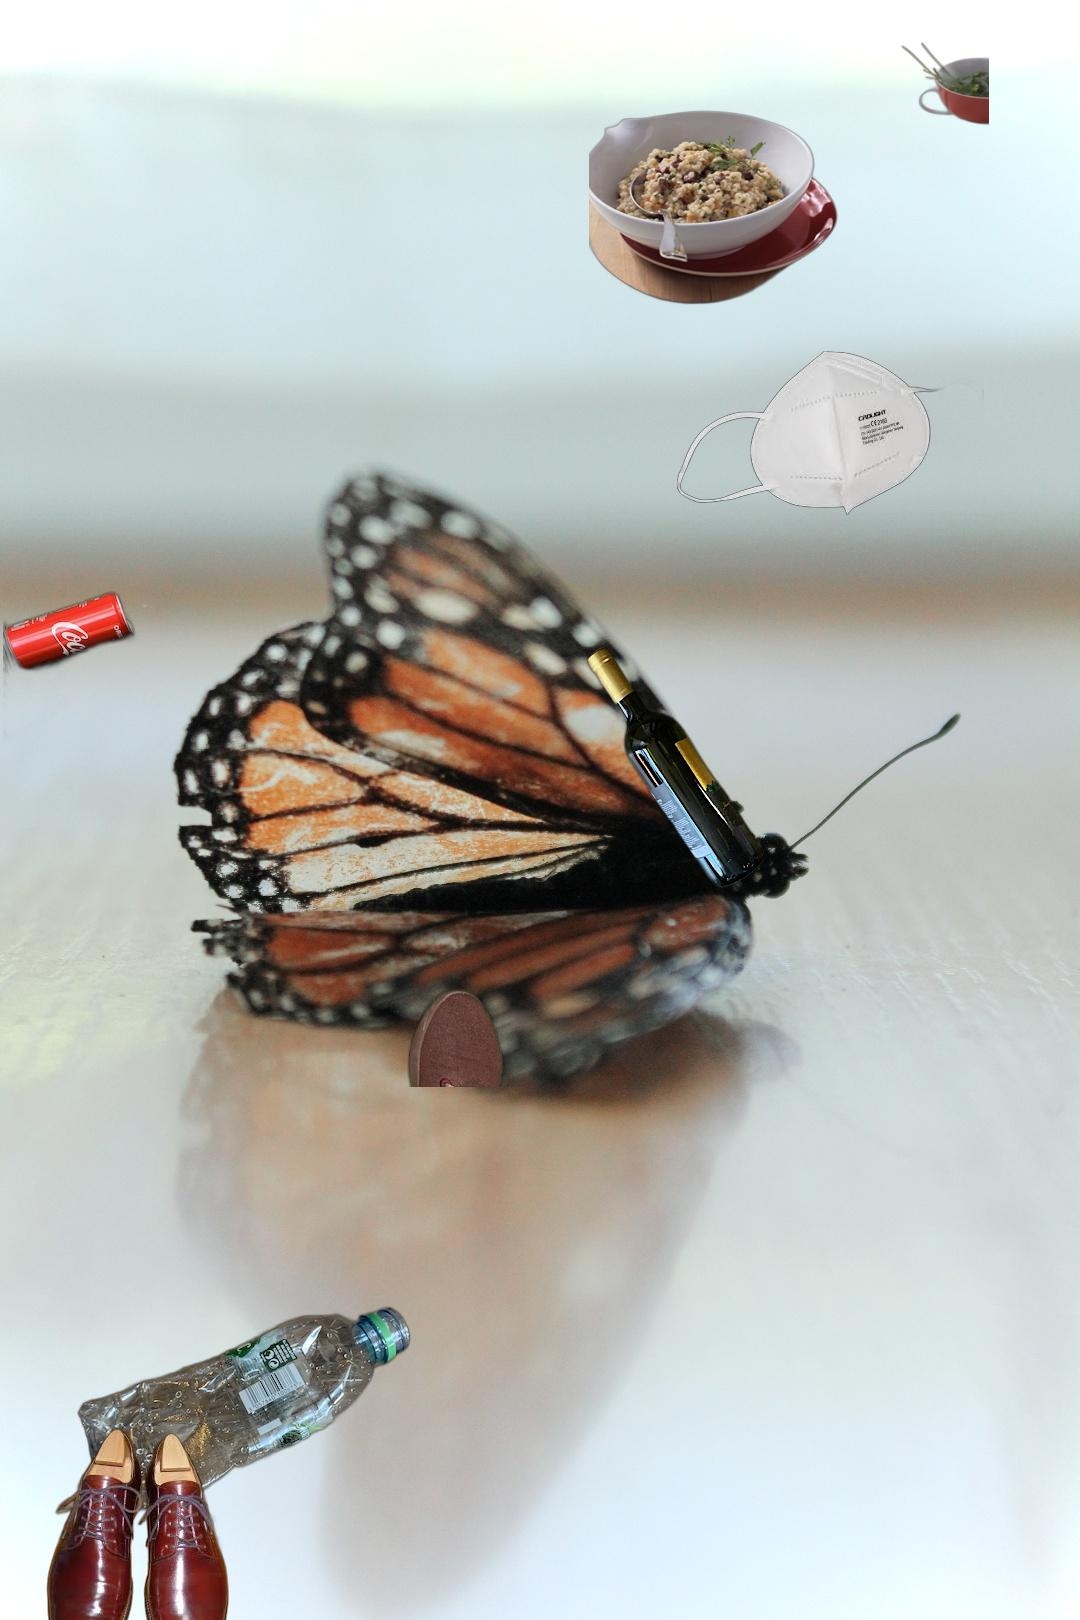biological: (589, 40, 990, 307)
glass: (583, 641, 769, 893)
metal-cans: (2, 404, 515, 1087)
plastic-bottles: (75, 1302, 413, 1515)
shoes: (45, 1425, 231, 1620)
trash: (677, 351, 984, 515)
